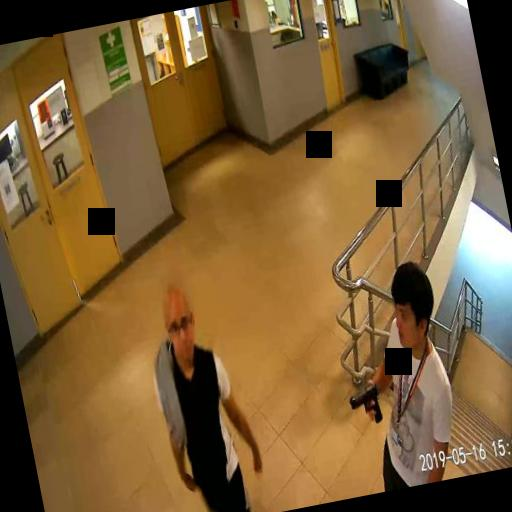Handgun: (346, 380, 382, 426)
